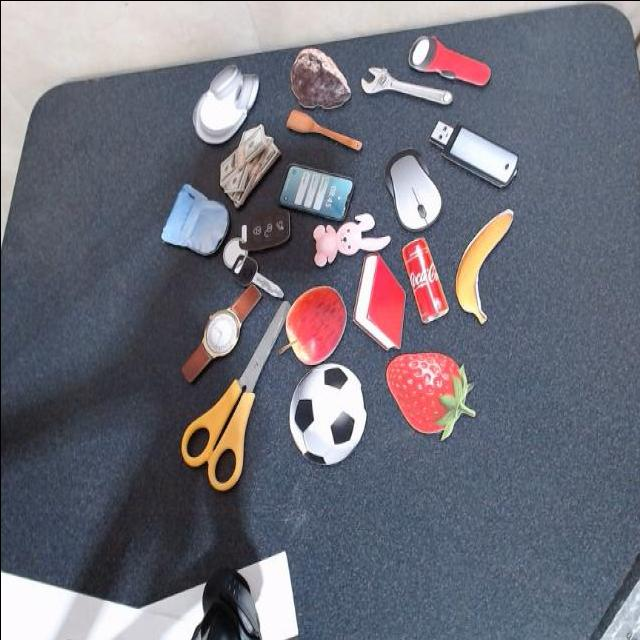Other Objects: (179, 299, 289, 489), (279, 352, 372, 474), (175, 269, 264, 395), (182, 48, 266, 155), (426, 112, 519, 193), (219, 199, 291, 297), (404, 25, 491, 105), (453, 207, 512, 323), (376, 141, 445, 239), (158, 179, 231, 268), (358, 60, 452, 121), (276, 284, 346, 364), (217, 121, 280, 207), (277, 161, 353, 220), (284, 105, 361, 161), (311, 211, 390, 265), (400, 235, 448, 323), (288, 45, 350, 108)
